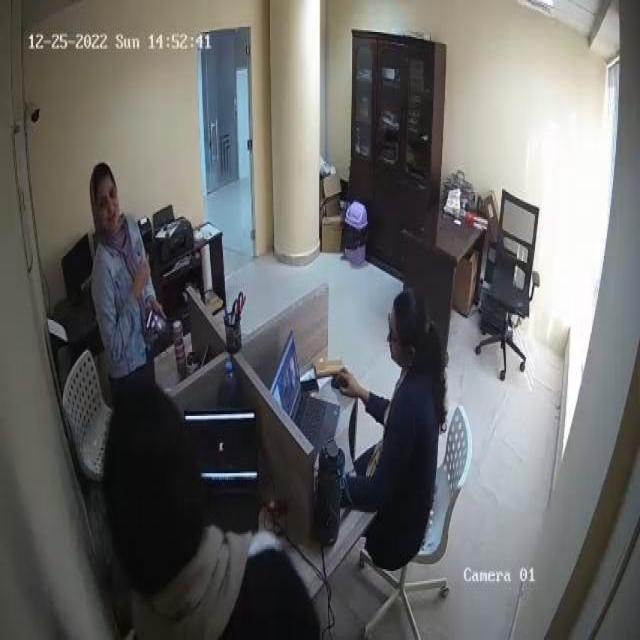bare_hand: (328, 362, 373, 408), (130, 254, 157, 305), (144, 290, 168, 340)
